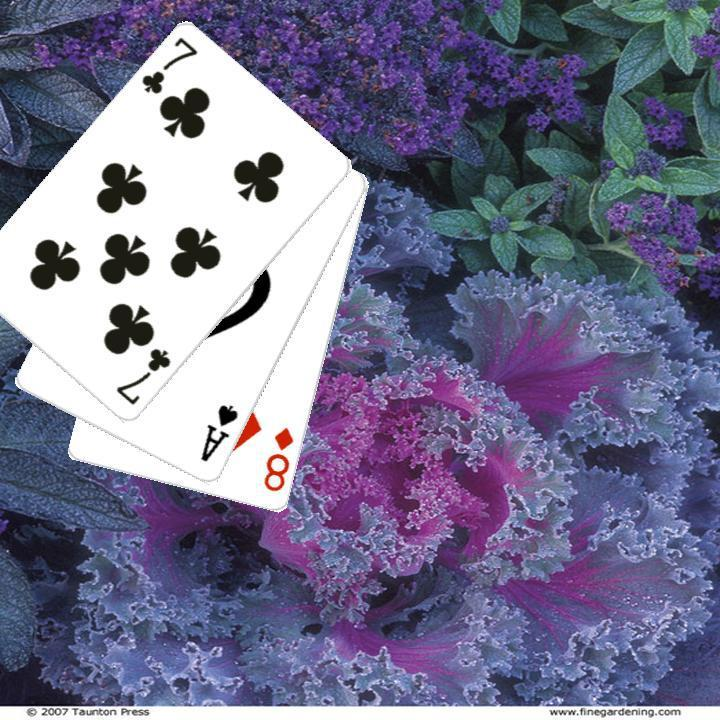7: (137, 33, 200, 97), (111, 344, 173, 408)
8: (259, 423, 296, 495)
A: (196, 401, 241, 465)
